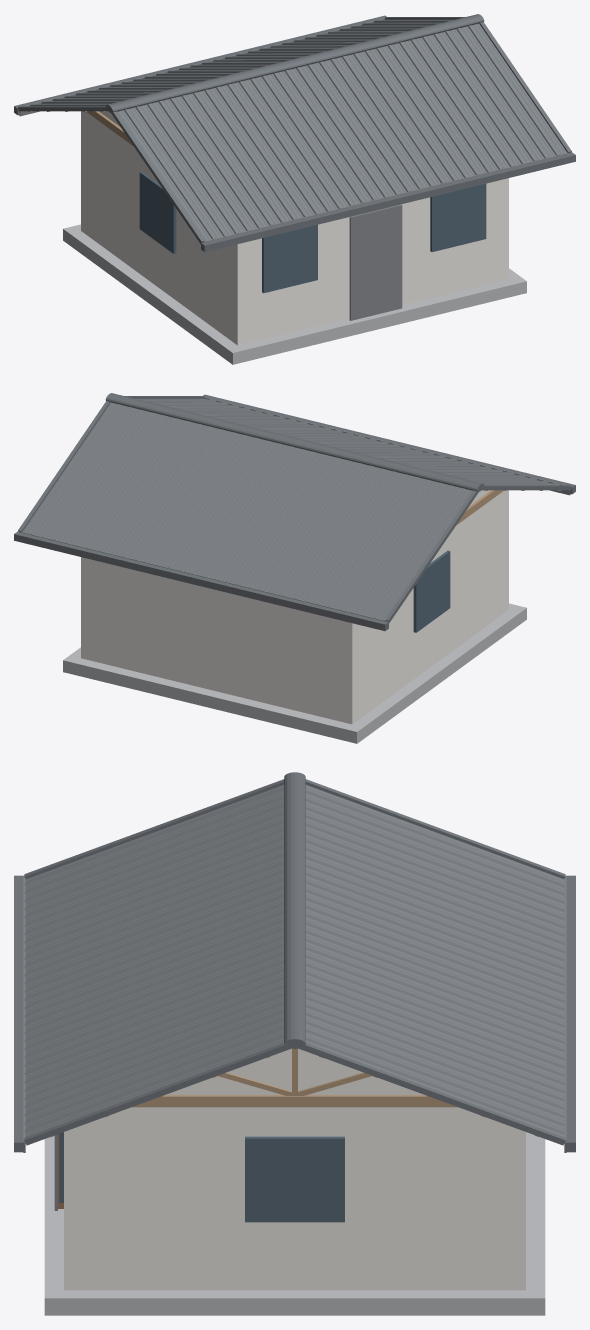
The model's file is Starter_House_6x6.glb.
3 renders of one model, top to bottom at view 1: azimuth 30°, elevation 25°; view 2: azimuth 150°, elevation 25°; view 3: azimuth 270°, elevation 25°, orthographic. The views are drawn at different scales.
Visible parts, largest first — view 1: GroundFloor_Walls, Foundation, RoofSheet_02, RoofSheet_03, RoofSheet_05, RoofSheet_07, RoofSheet_04, RoofSheet_06, RoofSheet_01, RoofSheet_08, Door_Frame, Ridge_Cap (+18 smaller); view 2: GroundFloor_Walls, Foundation, RoofSheet_10, RoofSheet_11, RoofSheet_13, RoofSheet_15, RoofSheet_12, RoofSheet_14, RoofSheet_09, RoofSheet_16, Ridge_Cap, Gutter_Back (+15 smaller); view 3: GroundFloor_Walls, Foundation, RoofSheet_05, RoofSheet_06, RoofSheet_07, RoofSheet_13, RoofSheet_14, RoofSheet_15, RoofSheet_03, RoofSheet_04, RoofSheet_11, RoofSheet_12 (+18 smaller).
Part boxes in pixels (x1,y1,x2,y2): GroundFloor_Walls: (81,111,508,345); Foundation: (63,224,526,364); RoofSheet_02: (161,90,294,230); RoofSheet_03: (207,78,340,219); RoofSheet_05: (298,56,432,196); RoofSheet_07: (390,34,523,174); RoofSheet_04: (253,67,386,207); RoofSheet_06: (344,45,477,185); RoofSheet_01: (117,101,248,240); RoofSheet_08: (436,23,567,163); Door_Frame: (349,204,402,320); Ridge_Cap: (105,14,484,112); GroundFloor_Walls: (81,490,508,724); Foundation: (63,603,526,743); RoofSheet_10: (295,469,428,609); RoofSheet_11: (249,457,382,598); RoofSheet_13: (157,435,291,575); RoofSheet_15: (66,413,199,553); RoofSheet_12: (203,446,336,586); RoofSheet_14: (112,424,245,564); RoofSheet_09: (341,480,472,619); RoofSheet_16: (22,402,153,542); Ridge_Cap: (105,393,484,491); Gutter_Back: (14,531,388,630); GroundFloor_Walls: (64,1107,525,1290); Foundation: (44,1132,545,1315); RoofSheet_05: (24,913,284,1040); RoofSheet_06: (24,946,284,1073); RoofSheet_07: (24,979,284,1106); RoofSheet_13: (305,913,565,1040); RoofSheet_14: (305,946,565,1073); RoofSheet_15: (305,979,565,1106); RoofSheet_03: (24,847,284,974); RoofSheet_04: (24,880,284,1007); RoofSheet_11: (305,847,565,974); RoofSheet_12: (305,880,565,1007).
Bounding box in the file's own units: 8.2 × 4.36 × 7.3.
